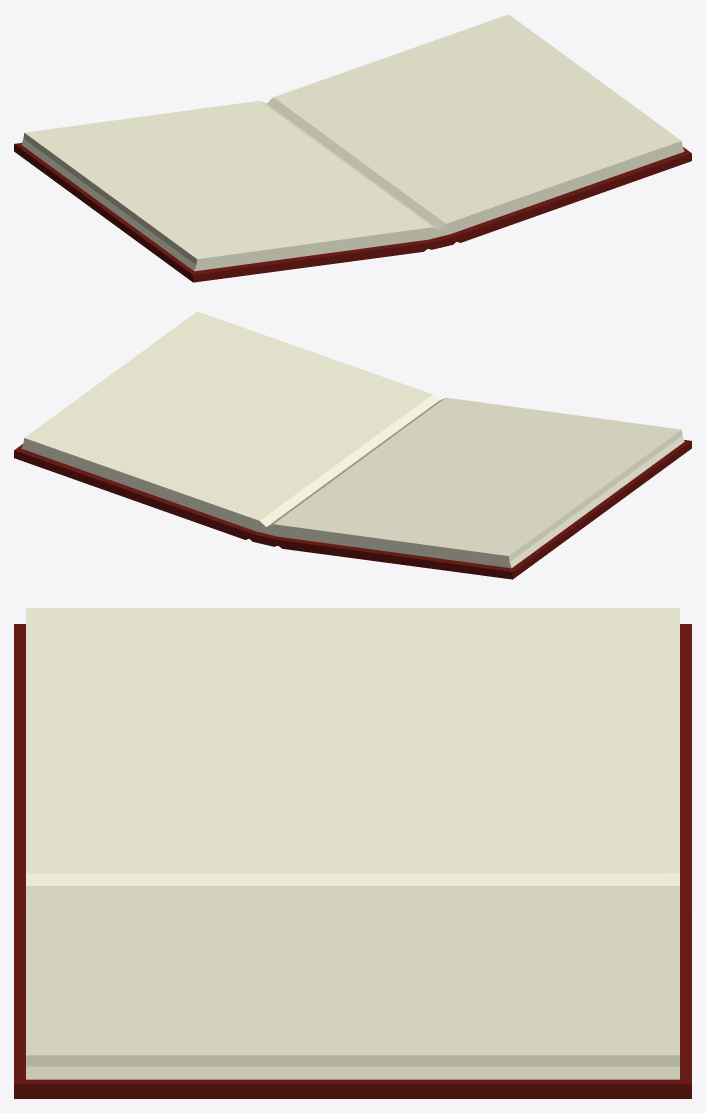
Rendered from Book_Opened.fbx.
The picture shows the model from 3 angles, top to bottom: view 1: azimuth 30°, elevation 25°; view 2: azimuth 150°, elevation 25°; view 3: azimuth 270°, elevation 25°; orthographic projection. The views are drawn at different scales.
Visible parts, largest first — view 1: Book_Open.left; view 2: Book_Open.left; view 3: Book_Open.left.
Part boxes in pixels (box(x1,y1,x2,y2)): Book_Open.left: box(14, 14, 691, 282); Book_Open.left: box(14, 311, 691, 579); Book_Open.left: box(14, 608, 691, 1098).
Bounding box in the file's own units: 0.4017 × 0.0347 × 0.2501.
